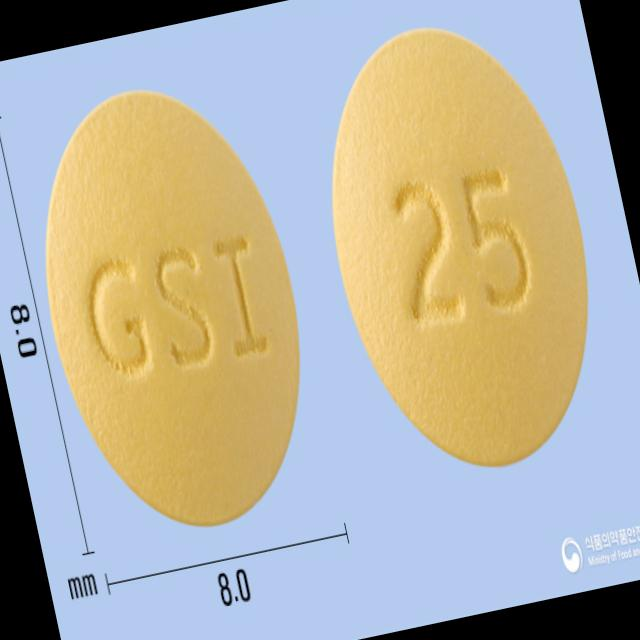Vemlidy Tab: (293, 0, 627, 491), (6, 61, 338, 551)
